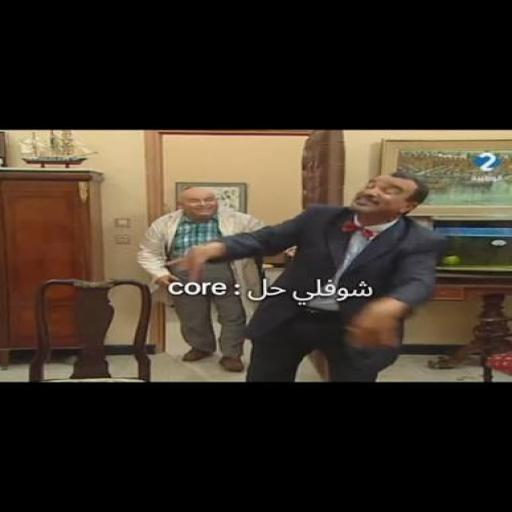sboui: (179, 187, 218, 221)
slimane: (357, 171, 427, 225)
